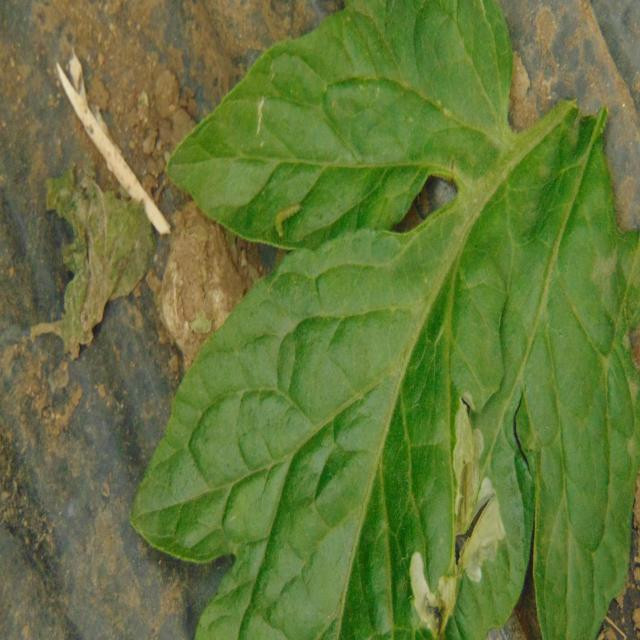Tuta absoluta: (392, 399, 539, 640)
